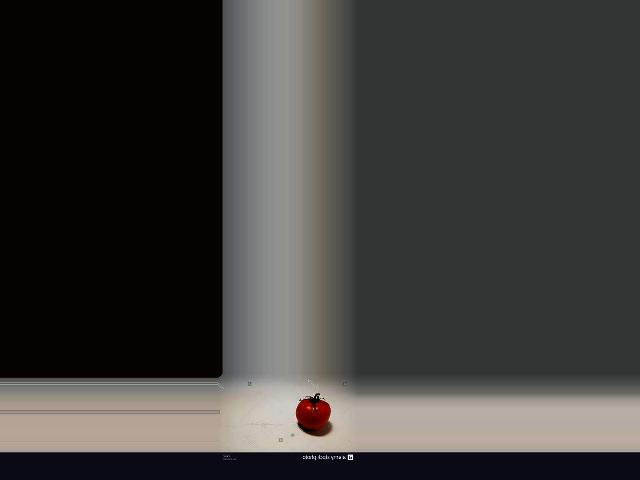tomato: (295, 399, 329, 430)
